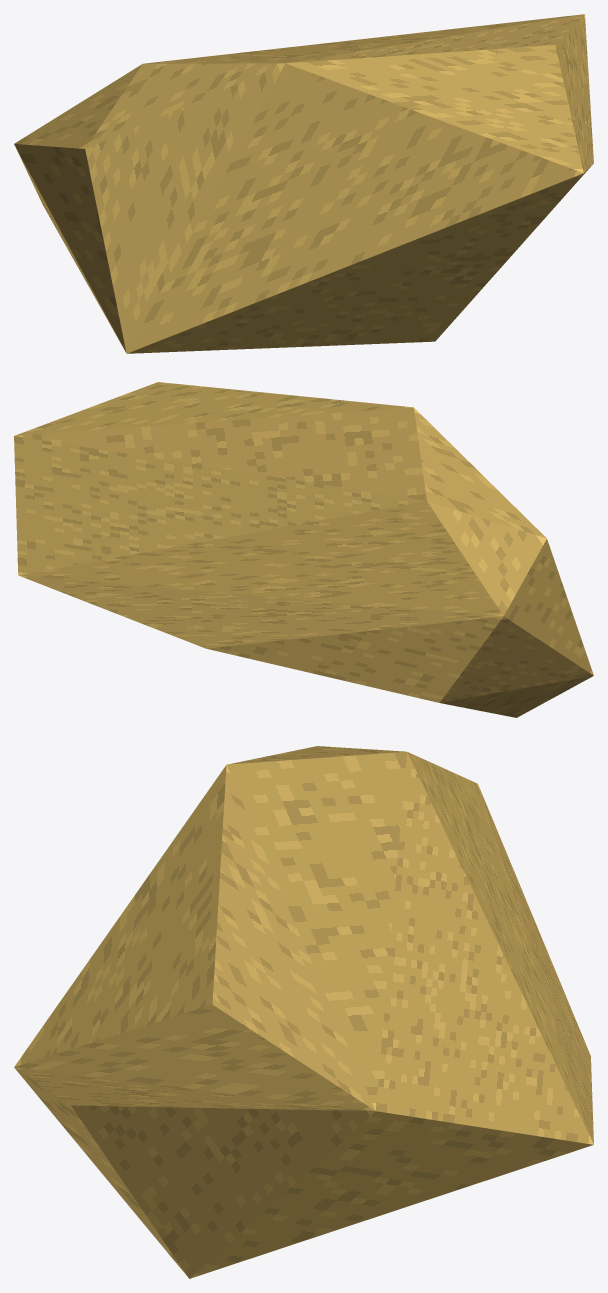
Rendered from gold_small.glb.
The picture shows the model from 3 angles, top to bottom: view 1: azimuth 30°, elevation 25°; view 2: azimuth 150°, elevation 25°; view 3: azimuth 270°, elevation 25°; orthographic projection. The views are drawn at different scales.
Parts seen in each view (by area): view 1: block_rough fragment; view 2: block_rough fragment; view 3: block_rough fragment.
Part boxes in pixels (<box>): block_rough fragment: <box>14,14,593,353</box>; block_rough fragment: <box>14,382,593,717</box>; block_rough fragment: <box>14,746,593,1278</box>.
Bounding box in the file's own units: 0.0188 × 0.0101 × 0.0127.
1 material, 1 textured.
